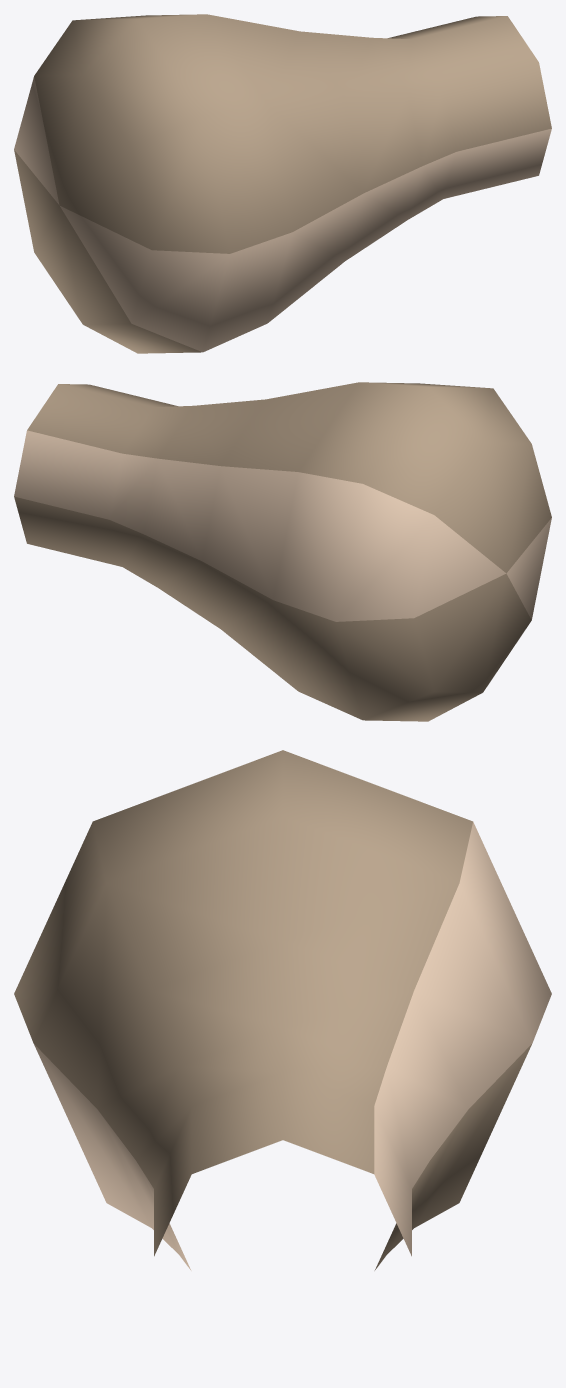
Rendered from Puzzle07_LightOff.glb.
3 views of the same model, one above another, from view 1: azimuth 30°, elevation 25°; view 2: azimuth 150°, elevation 25°; view 3: azimuth 270°, elevation 25° (orthographic). The views are drawn at different scales.
Parts seen in each view (by area): view 1: Game7_Lamparas.002; view 2: Game7_Lamparas.002; view 3: Game7_Lamparas.002.
Boxes of the visible parts, left/top/right/bottom form: Game7_Lamparas.002: left=14, top=14, right=551, bottom=353; Game7_Lamparas.002: left=14, top=382, right=551, bottom=721; Game7_Lamparas.002: left=14, top=750, right=551, bottom=1270.
Bounding box in the file's own units: 0.3217 × 0.2295 × 0.2295.
Materials: 1 (1 with a texture image).
